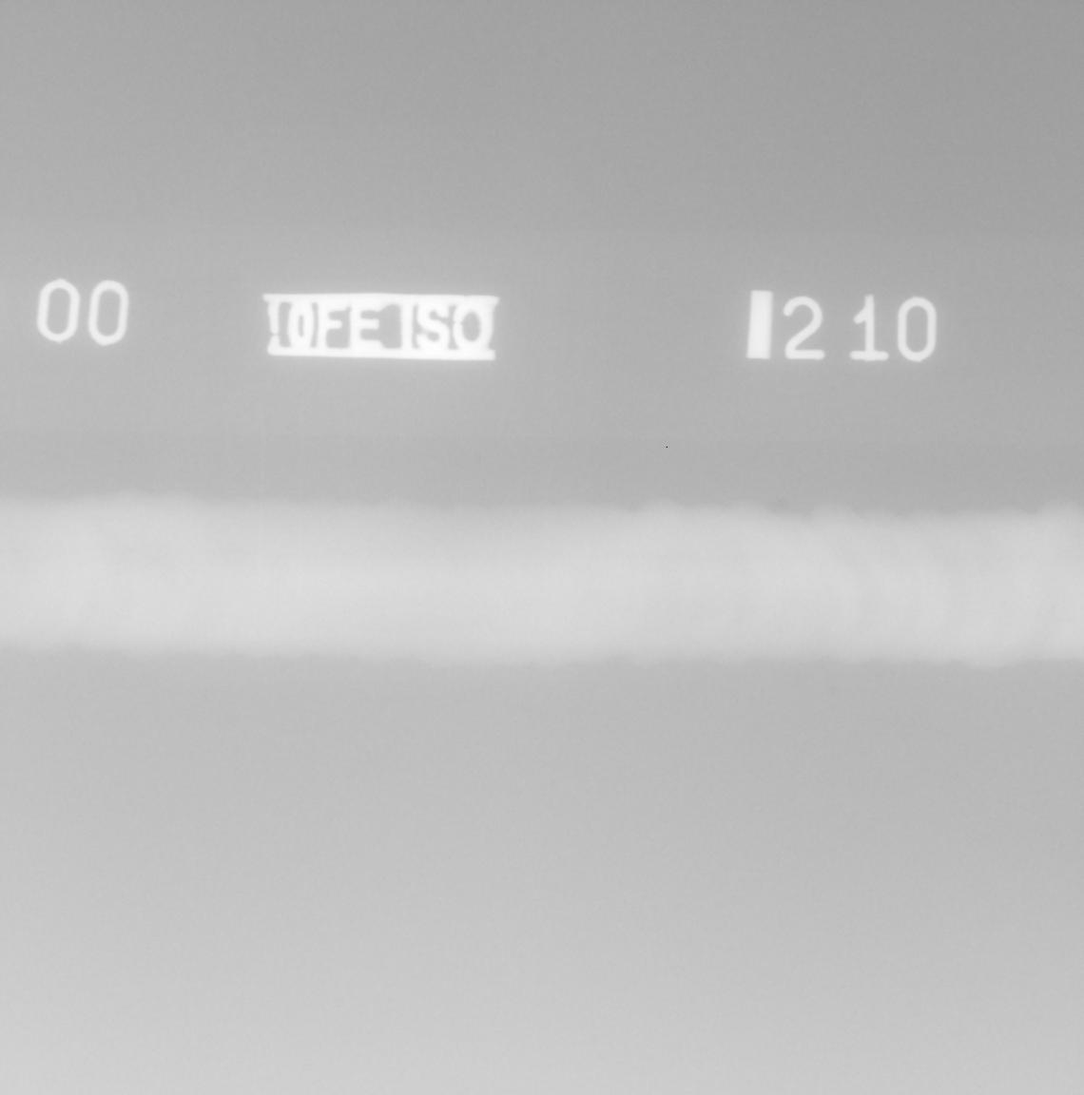Undercut: (775, 498, 787, 509)
